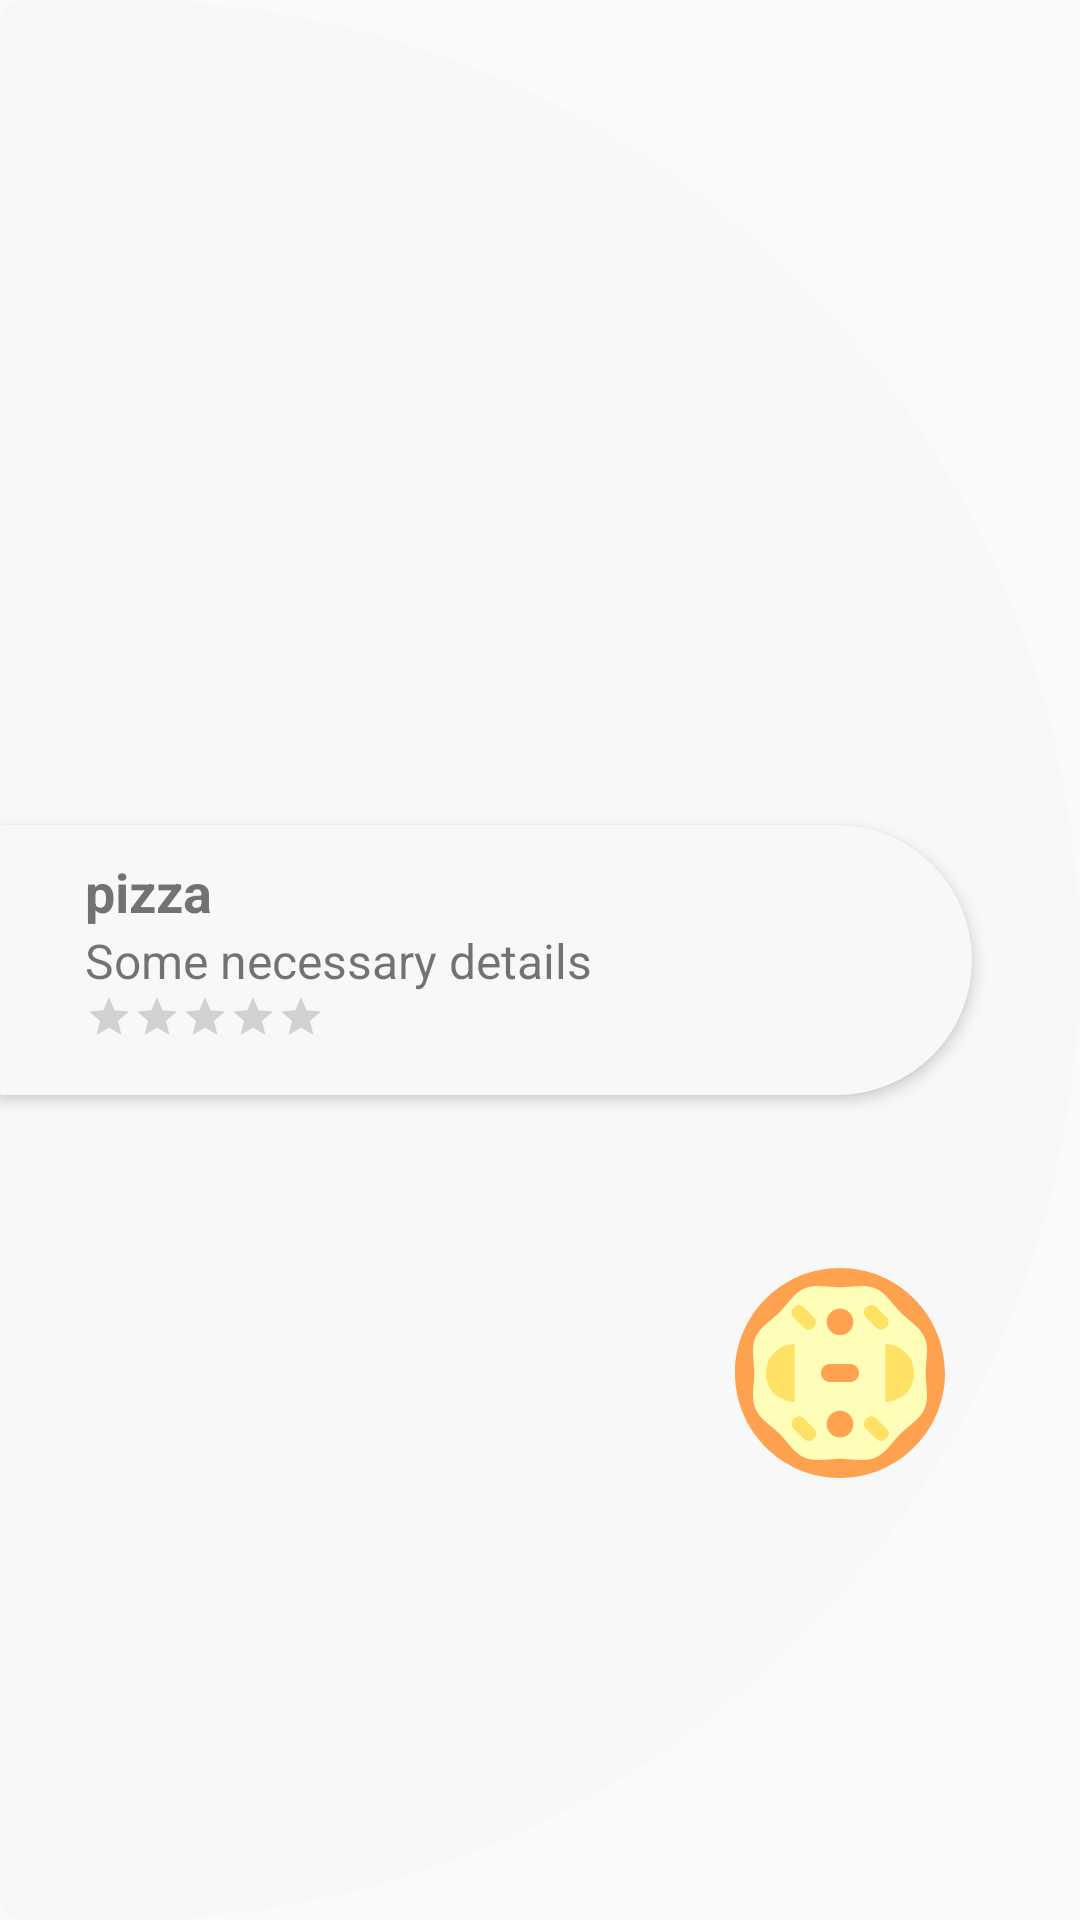

Screen size 1080×1920. Icon name, then its box in pixels as (x1, y1, x2, y2):
pizza: (735, 1268, 945, 1478)
